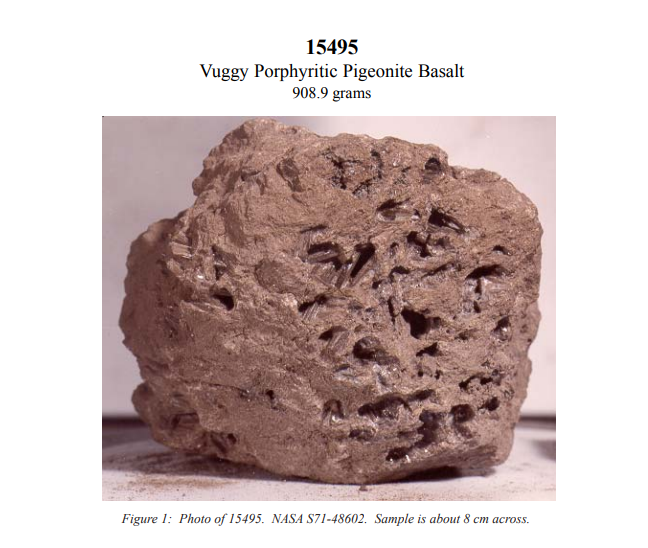Basalt: (118, 114, 557, 465), (235, 218, 489, 448)
